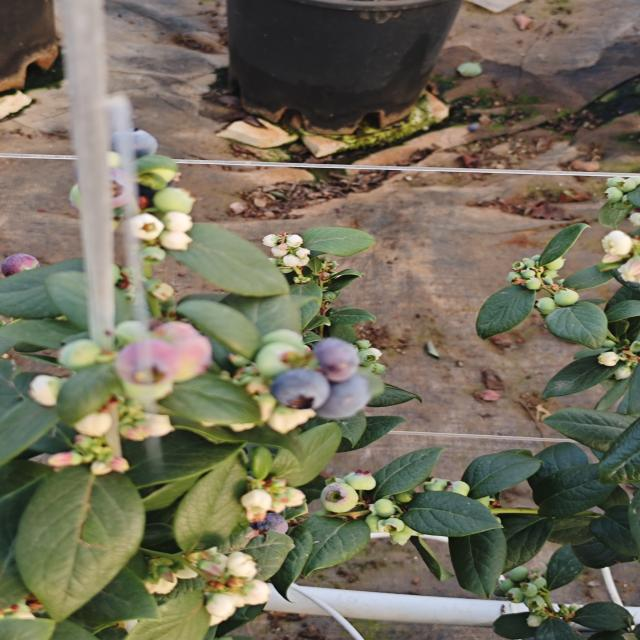ripe: (267, 366, 333, 413), (309, 335, 363, 384), (113, 120, 161, 156), (327, 382, 370, 419)
